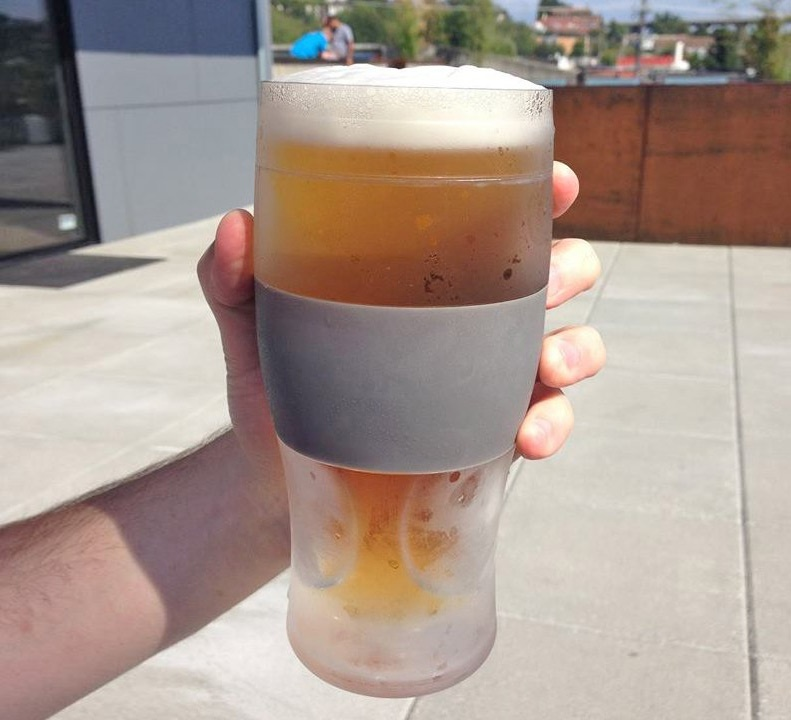glassBeer: (245, 75, 536, 697)
